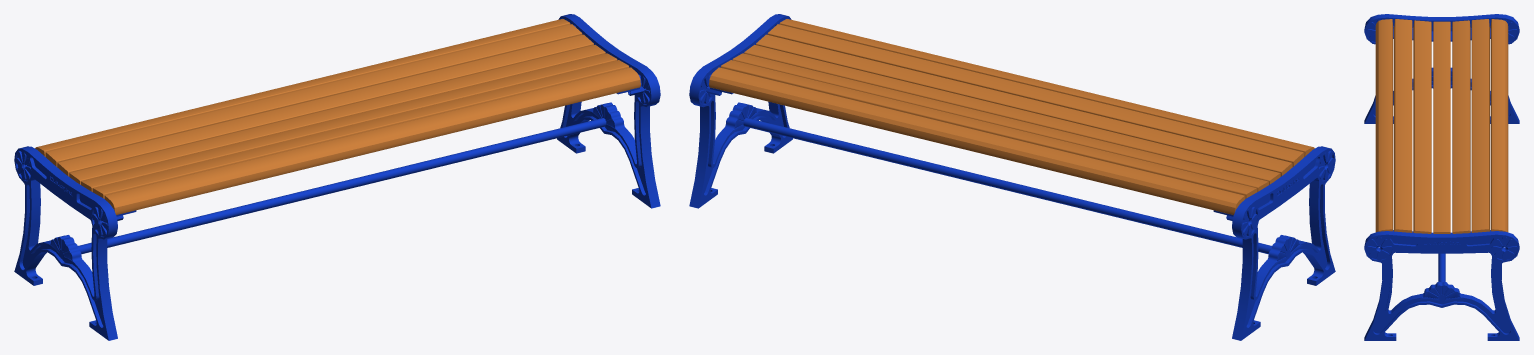
The picture shows the model from 3 angles, left to right: view 1: azimuth 30°, elevation 25°; view 2: azimuth 150°, elevation 25°; view 3: azimuth 270°, elevation 25°; orthographic projection. The views are drawn at different scales.
Visible parts, largest first — view 1: mesh88_mesh88-geometry, mesh90_mesh90-geometry, mesh16_mesh16-geometry, mesh1_mesh1-geometry; view 2: mesh88_mesh88-geometry, mesh90_mesh90-geometry, mesh16_mesh16-geometry, mesh1_mesh1-geometry; view 3: mesh88_mesh88-geometry, mesh16_mesh16-geometry, mesh90_mesh90-geometry, mesh1_mesh1-geometry, mesh6_mesh6-geometry.
Boxes of the visible parts, box(x1,y1,x2,y2) form: mesh88_mesh88-geometry: box(45, 24, 629, 198); mesh90_mesh90-geometry: box(35, 19, 640, 214); mesh16_mesh16-geometry: box(14, 14, 660, 340); mesh1_mesh1-geometry: box(78, 118, 606, 254); mesh88_mesh88-geometry: box(720, 24, 1304, 198); mesh90_mesh90-geometry: box(709, 19, 1314, 214); mesh16_mesh16-geometry: box(689, 14, 1335, 340); mesh1_mesh1-geometry: box(743, 118, 1271, 254); mesh88_mesh88-geometry: box(1394, 19, 1489, 233); mesh16_mesh16-geometry: box(1364, 14, 1519, 340); mesh90_mesh90-geometry: box(1375, 19, 1508, 232); mesh1_mesh1-geometry: box(1438, 253, 1445, 282); mesh6_mesh6-geometry: box(1393, 28, 1490, 233).
Bounding box in the file's own units: 0.937 × 0.211 × 0.2783.
